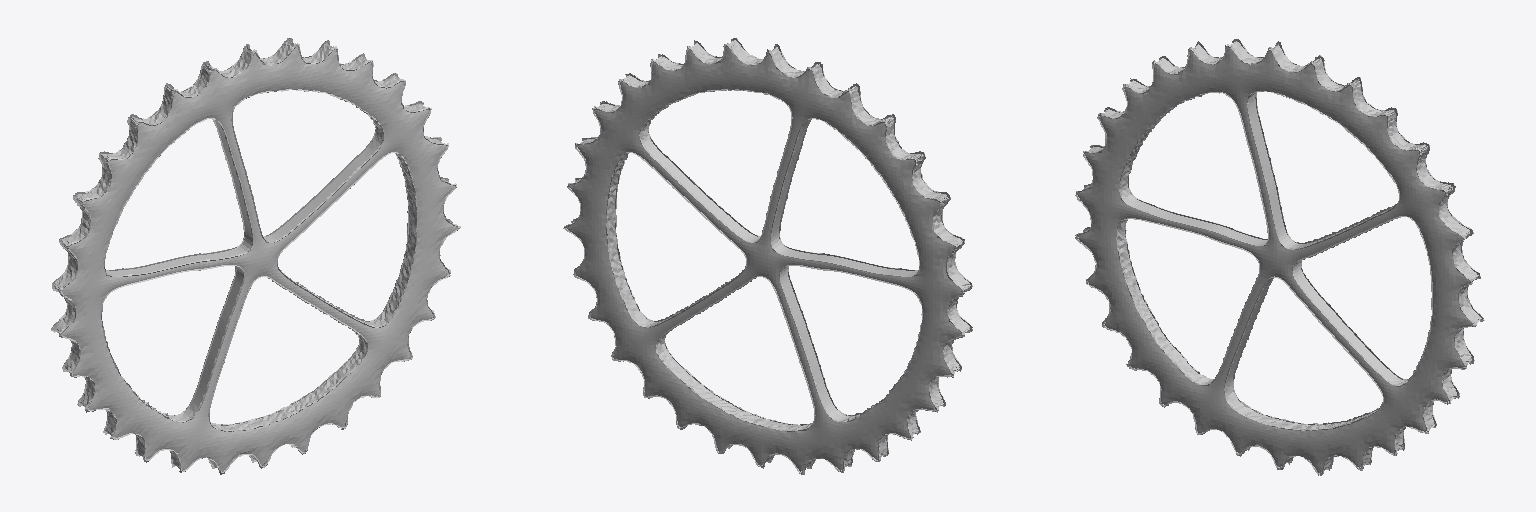
The model's file is Subtool 3.OBJ.
The picture shows the model from 3 angles: view 1: azimuth 30°, elevation 25°; view 2: azimuth 150°, elevation 25°; view 3: azimuth 330°, elevation 25°; orthographic projection.
Visible parts, largest first — view 1: Group34377, Group34367; view 2: Group34377, Group34367; view 3: Group34377, Group34367.
Boxes of the visible parts, x1=… form: Group34377: x1=51, y1=38, x2=460, y2=474; Group34367: x1=53, y1=41, x2=459, y2=472; Group34377: x1=563, y1=38, x2=972, y2=474; Group34367: x1=564, y1=40, x2=970, y2=473; Group34377: x1=1075, y1=39, x2=1484, y2=475; Group34367: x1=1075, y1=41, x2=1481, y2=474.
Bounding box in the file's own units: 1.72 × 1.72 × 0.0807.